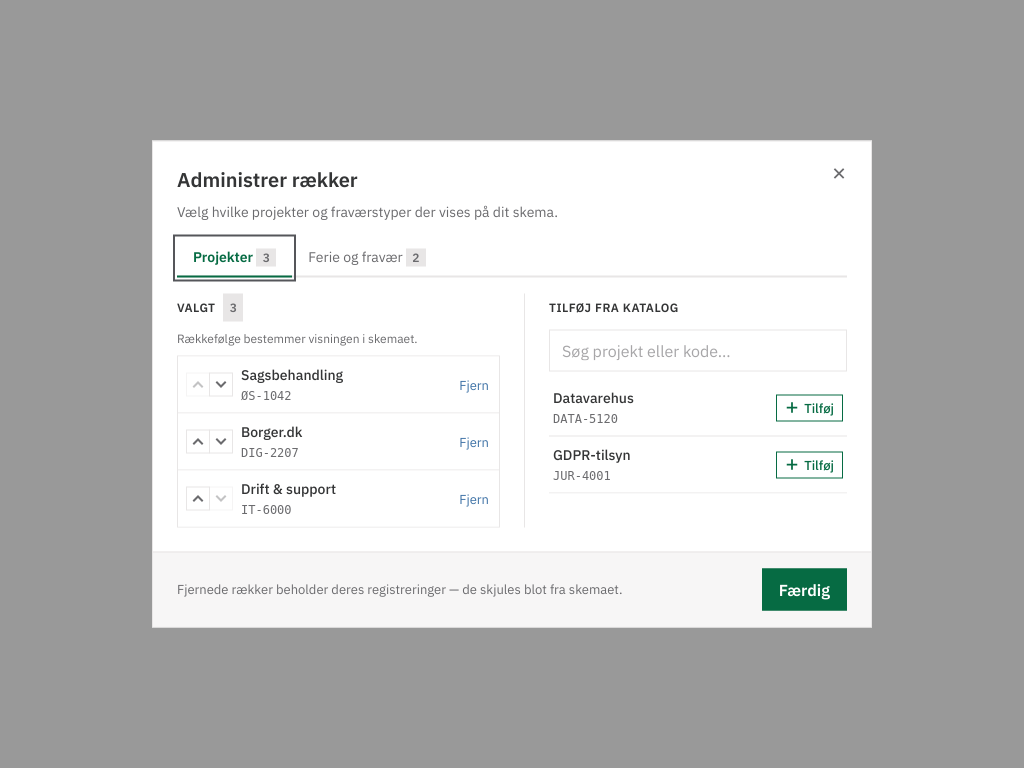
SkemaProjectManager — search (name OR code, case-insensitive) › renders "Ingen matcher." when nothing matches
In the field labelled "Søg projekt eller kode…": [698, 350] box [549,330,847,372], type "findes-ikke"
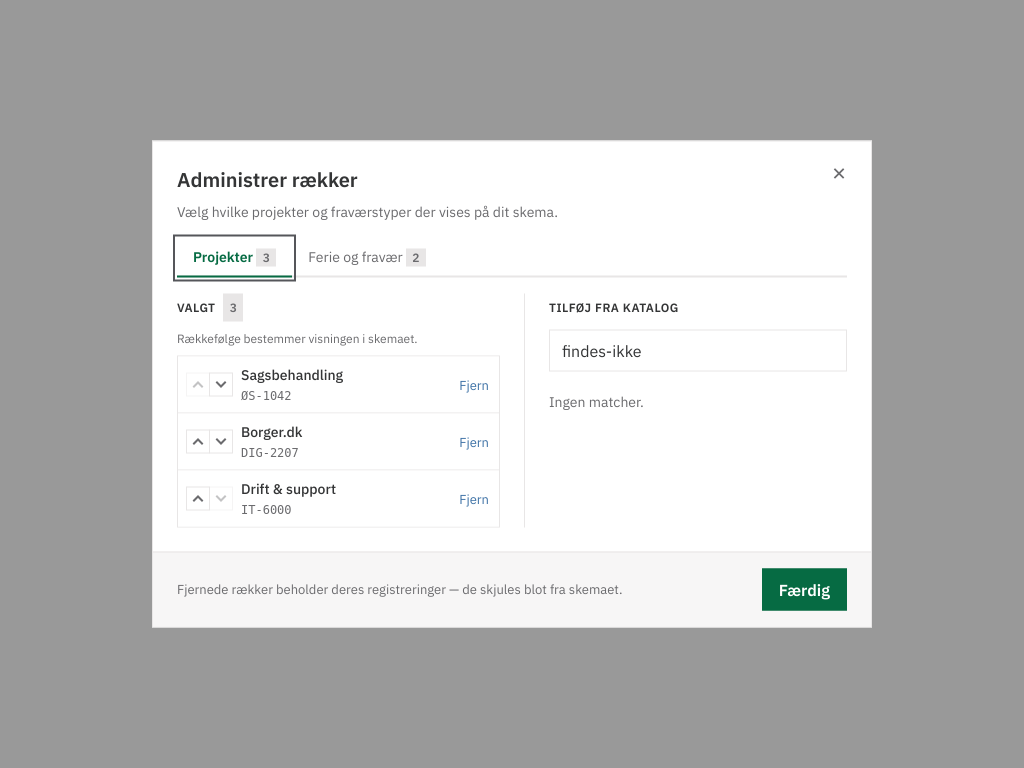
Expected: the list item "Ingen matcher." is shown, [549,392,644,410]
